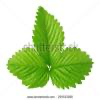Strawberry leaf: (49, 43, 95, 90), (5, 46, 51, 90), (31, 5, 65, 64)
